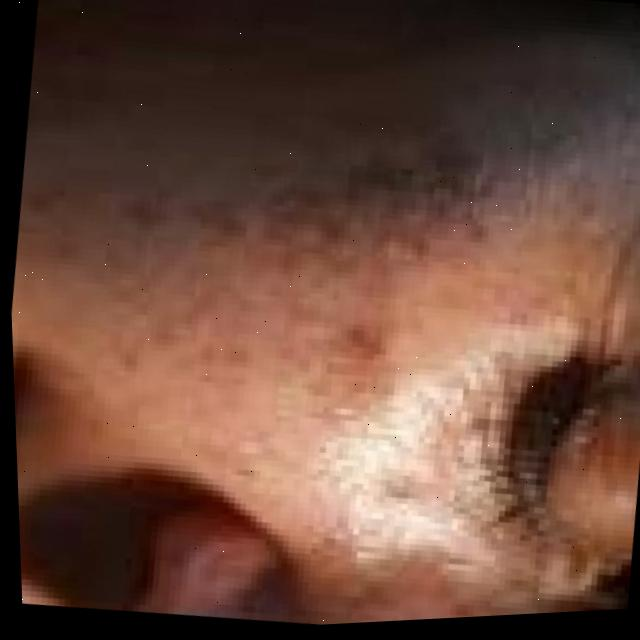Melasma: (143, 95, 512, 286)
